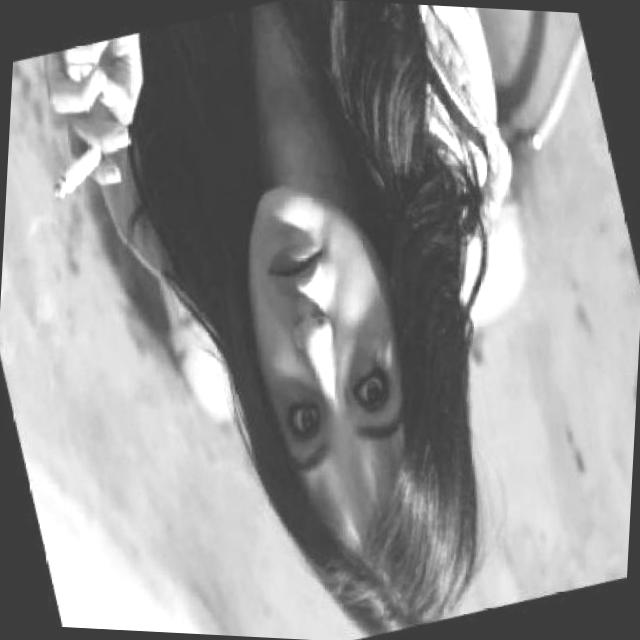smoke: (40, 138, 116, 207)
